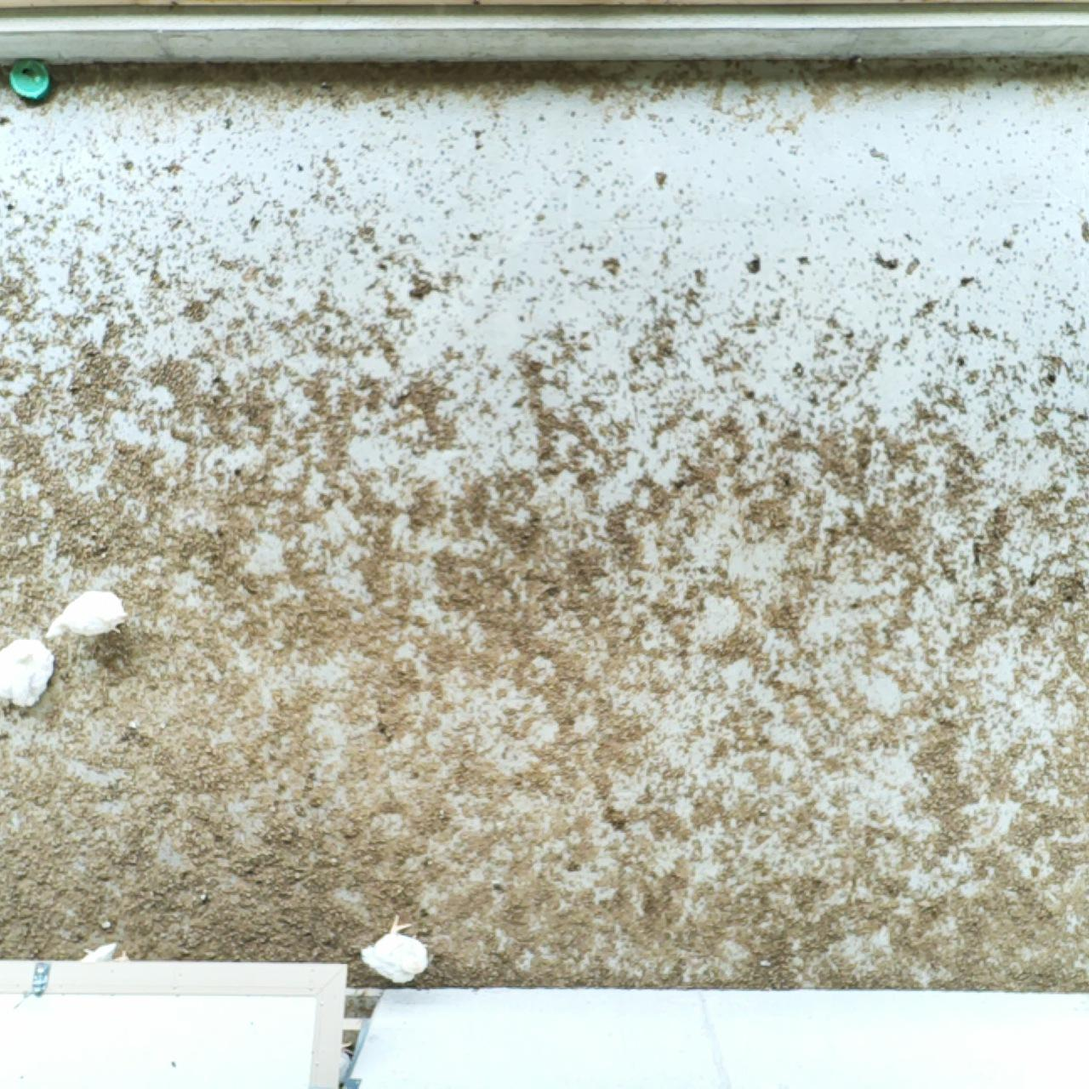chicken: (349, 907, 438, 991), (41, 592, 133, 642), (0, 633, 55, 708), (77, 936, 132, 962)
